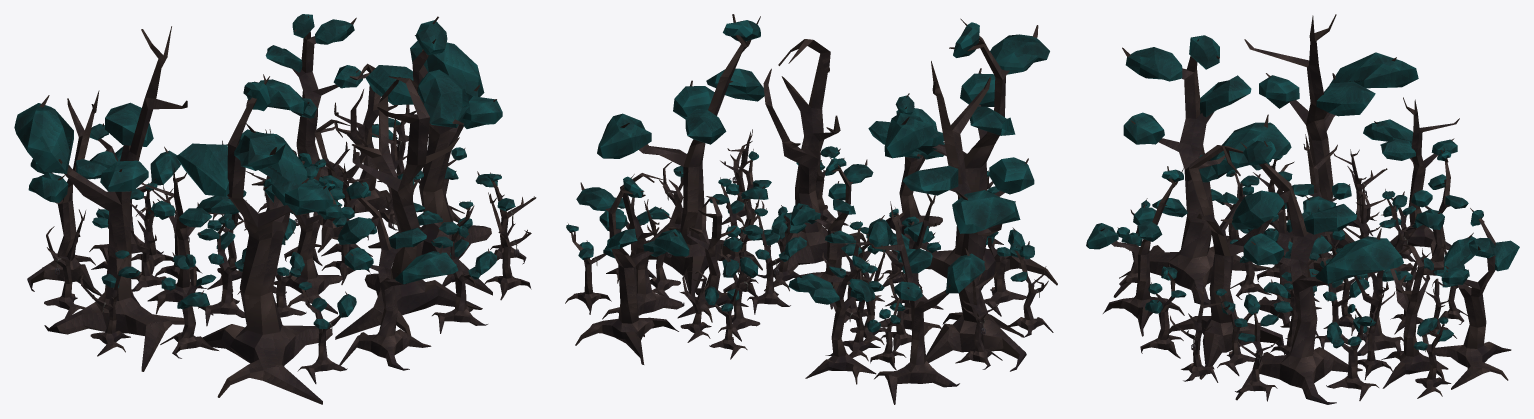
File: grove.gltf
3 renders of one model, left to right at view 1: azimuth 30°, elevation 25°; view 2: azimuth 150°, elevation 25°; view 3: azimuth 270°, elevation 25°, orthographic. The views are drawn at different scales.
Visible parts, largest first — view 1: Grove; view 2: Grove; view 3: Grove.
Part boxes in pixels (x1,y1,x2,y2): Grove: [14, 14, 536, 404]; Grove: [565, 14, 1057, 404]; Grove: [1086, 14, 1519, 404].
Size of the model in its own units: 19.96 by 13.15 by 19.35.
Materials: 1 (1 with a texture image).
